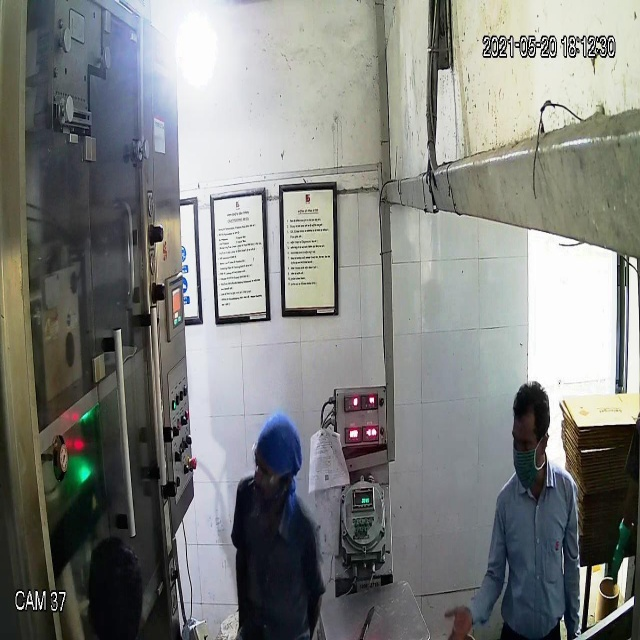Gafas: (246, 443, 290, 488)
Sin_gafas: (508, 426, 548, 461)
